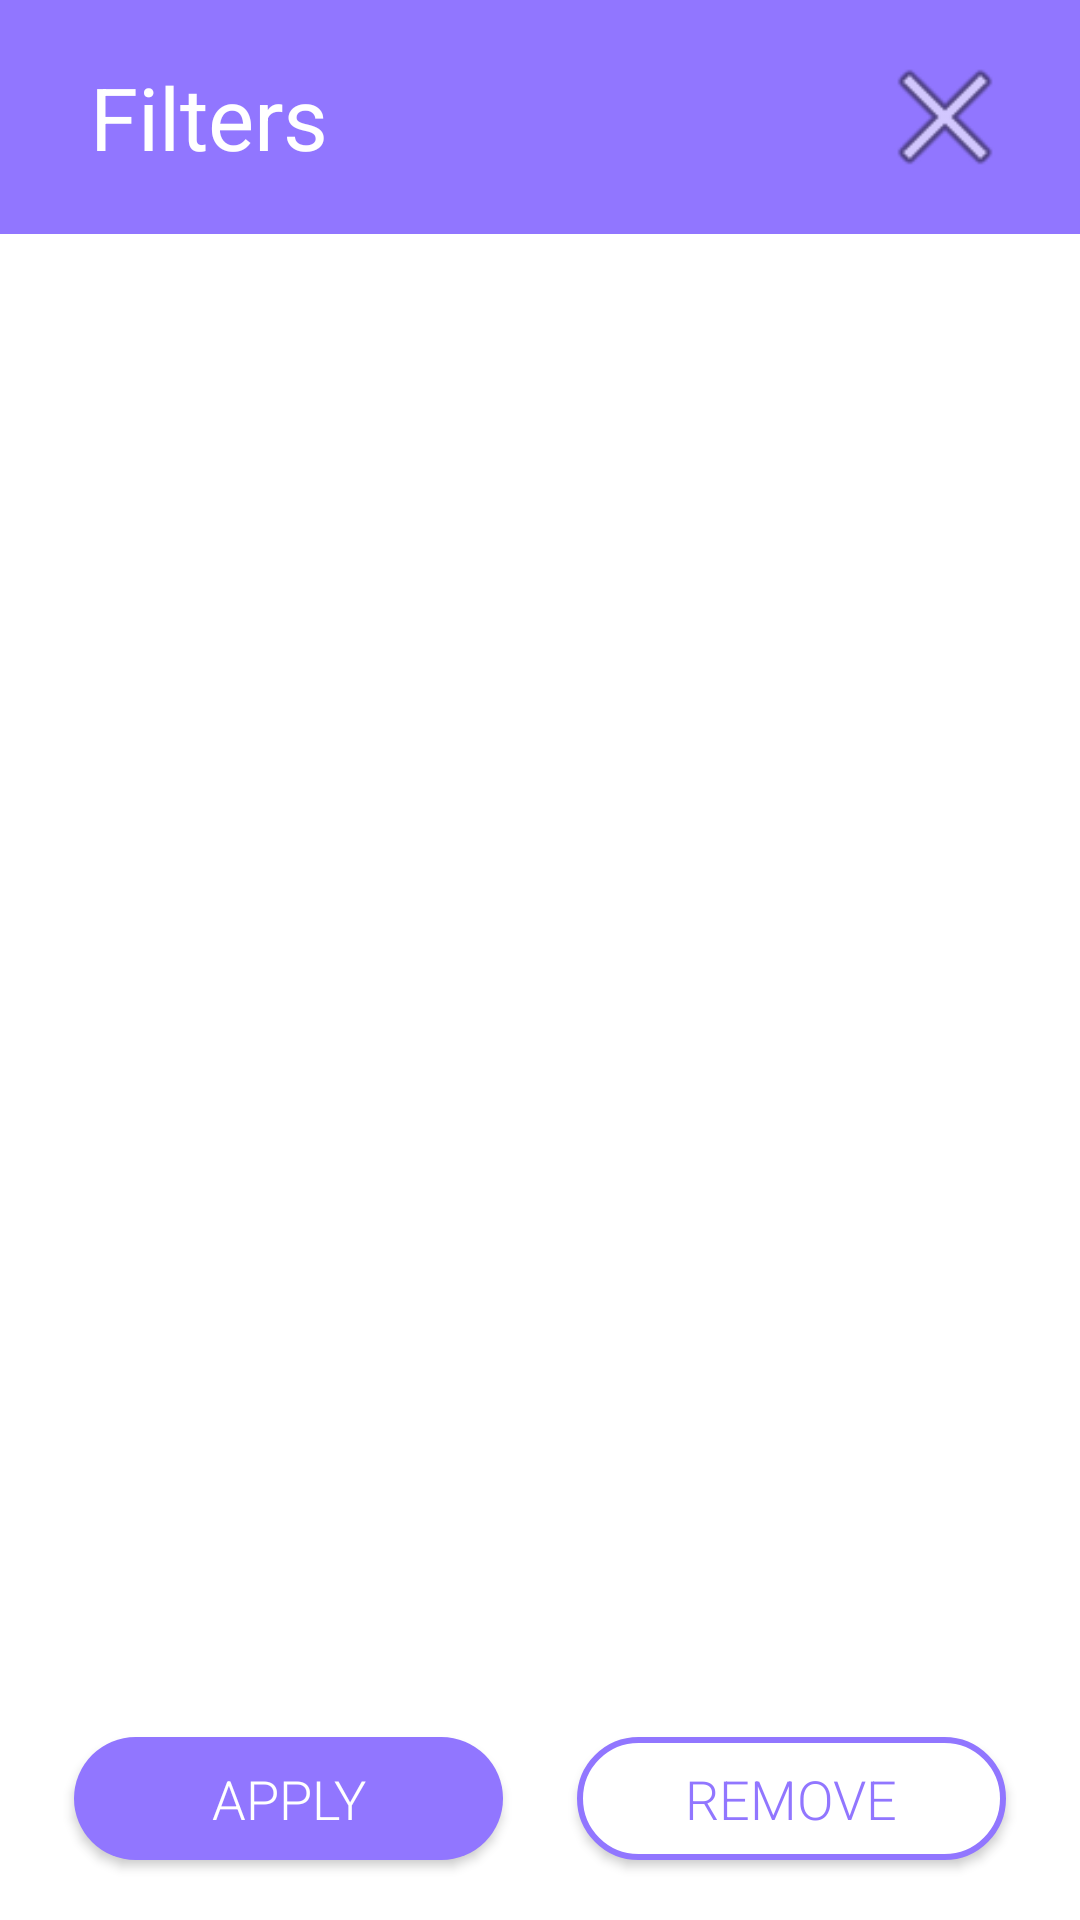

Named icons in this screenshot (1080x1920) and their centers, point (x, y):
close clear cancel: point (945, 117)
